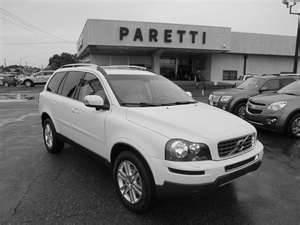car: (37, 63, 267, 215)
